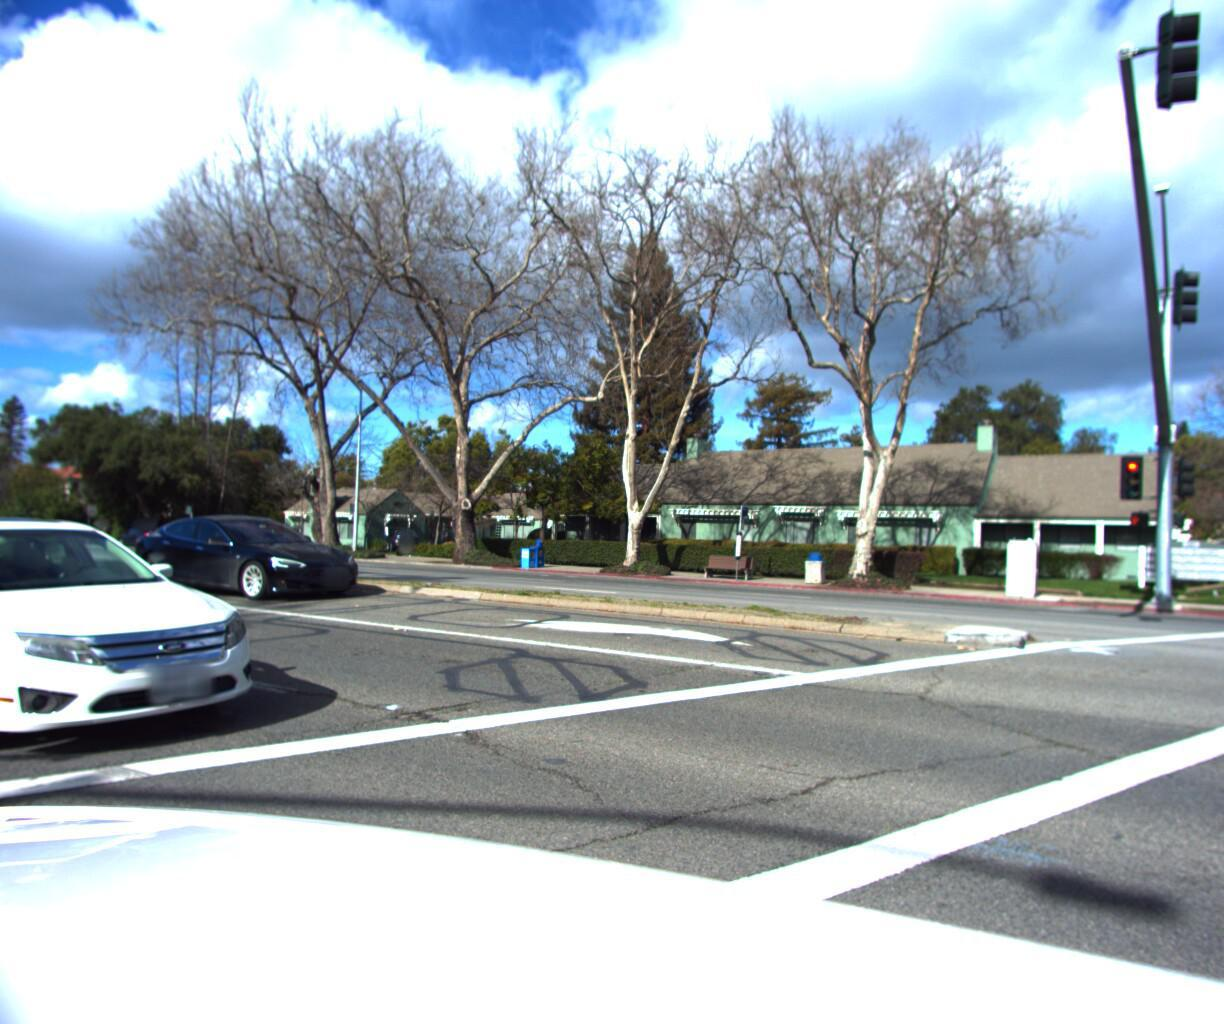car: (0, 513, 292, 794), (110, 513, 382, 609), (0, 508, 79, 606), (383, 532, 421, 555)
